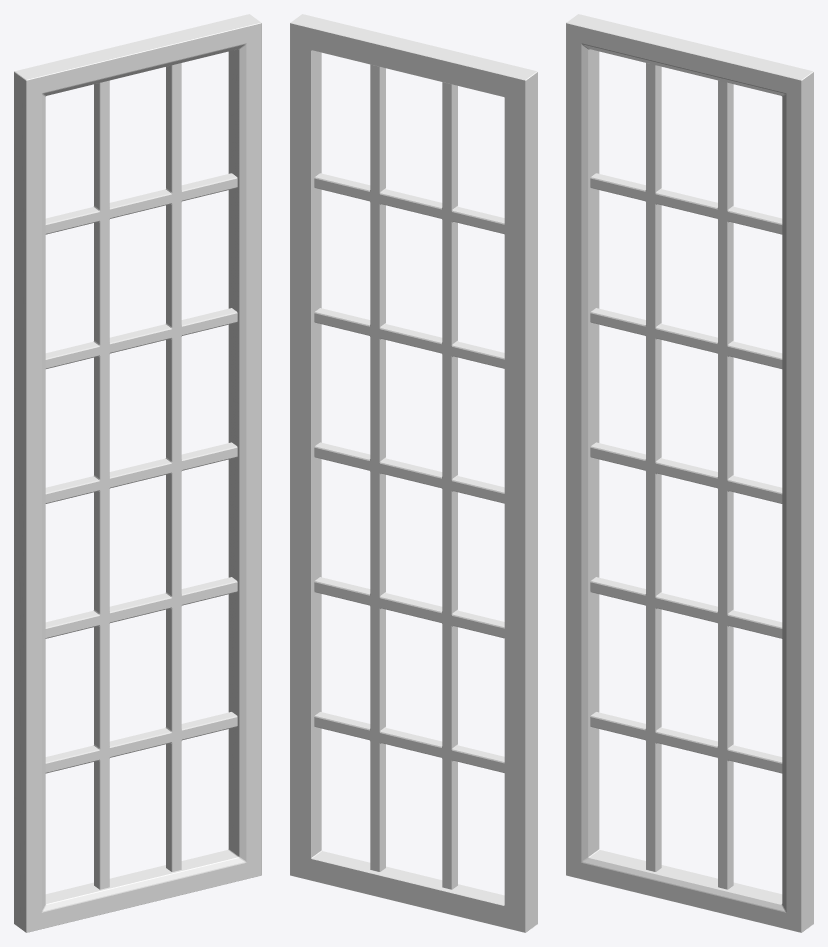
Rendered from MiscTallWindowUV.fbx.
3 renders of one model, left to right at view 1: azimuth 30°, elevation 25°; view 2: azimuth 150°, elevation 25°; view 3: azimuth 330°, elevation 25°, orthographic.
Parts seen in each view (by area): view 1: LargeWindow1; view 2: LargeWindow1; view 3: LargeWindow1.
Boxes of the visible parts, bbox=[...] form: LargeWindow1: bbox=[14, 14, 261, 932]; LargeWindow1: bbox=[290, 14, 537, 932]; LargeWindow1: bbox=[566, 14, 813, 932].
Bounding box in the file's own units: 220 × 760 × 20.
